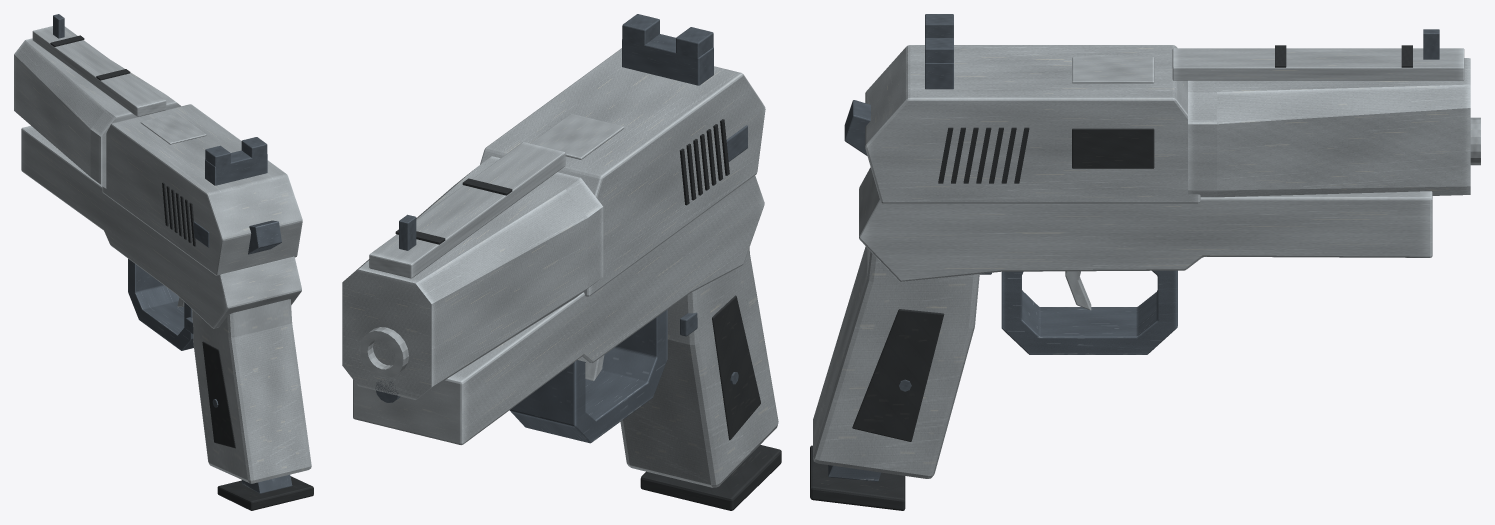
The model's file is deagle.glb.
3 views of the same model, side by side, from view 1: azimuth 30°, elevation 25°; view 2: azimuth 150°, elevation 25°; view 3: azimuth 270°, elevation 25° (orthographic). The views are drawn at different scales.
Parts seen in each view (by area): view 1: deagle_Body, deagle_Slide, deagle_Magazine; view 2: deagle_Body, deagle_Slide, deagle_Magazine; view 3: deagle_Body, deagle_Slide, deagle_Magazine.
Boxes of the visible parts, x1,y1,x2,y2 form: deagle_Body: (14, 14, 311, 483); deagle_Slide: (102, 104, 302, 275); deagle_Magazine: (217, 474, 313, 510); deagle_Body: (342, 113, 778, 487); deagle_Slide: (480, 14, 765, 296); deagle_Magazine: (640, 445, 781, 510); deagle_Body: (813, 29, 1480, 478); deagle_Slide: (865, 14, 1200, 203); deagle_Magazine: (810, 445, 905, 510).
Size of the model in its own units: 0.115 by 0.3997 by 0.529.
Materials: 3 (3 with a texture image).
